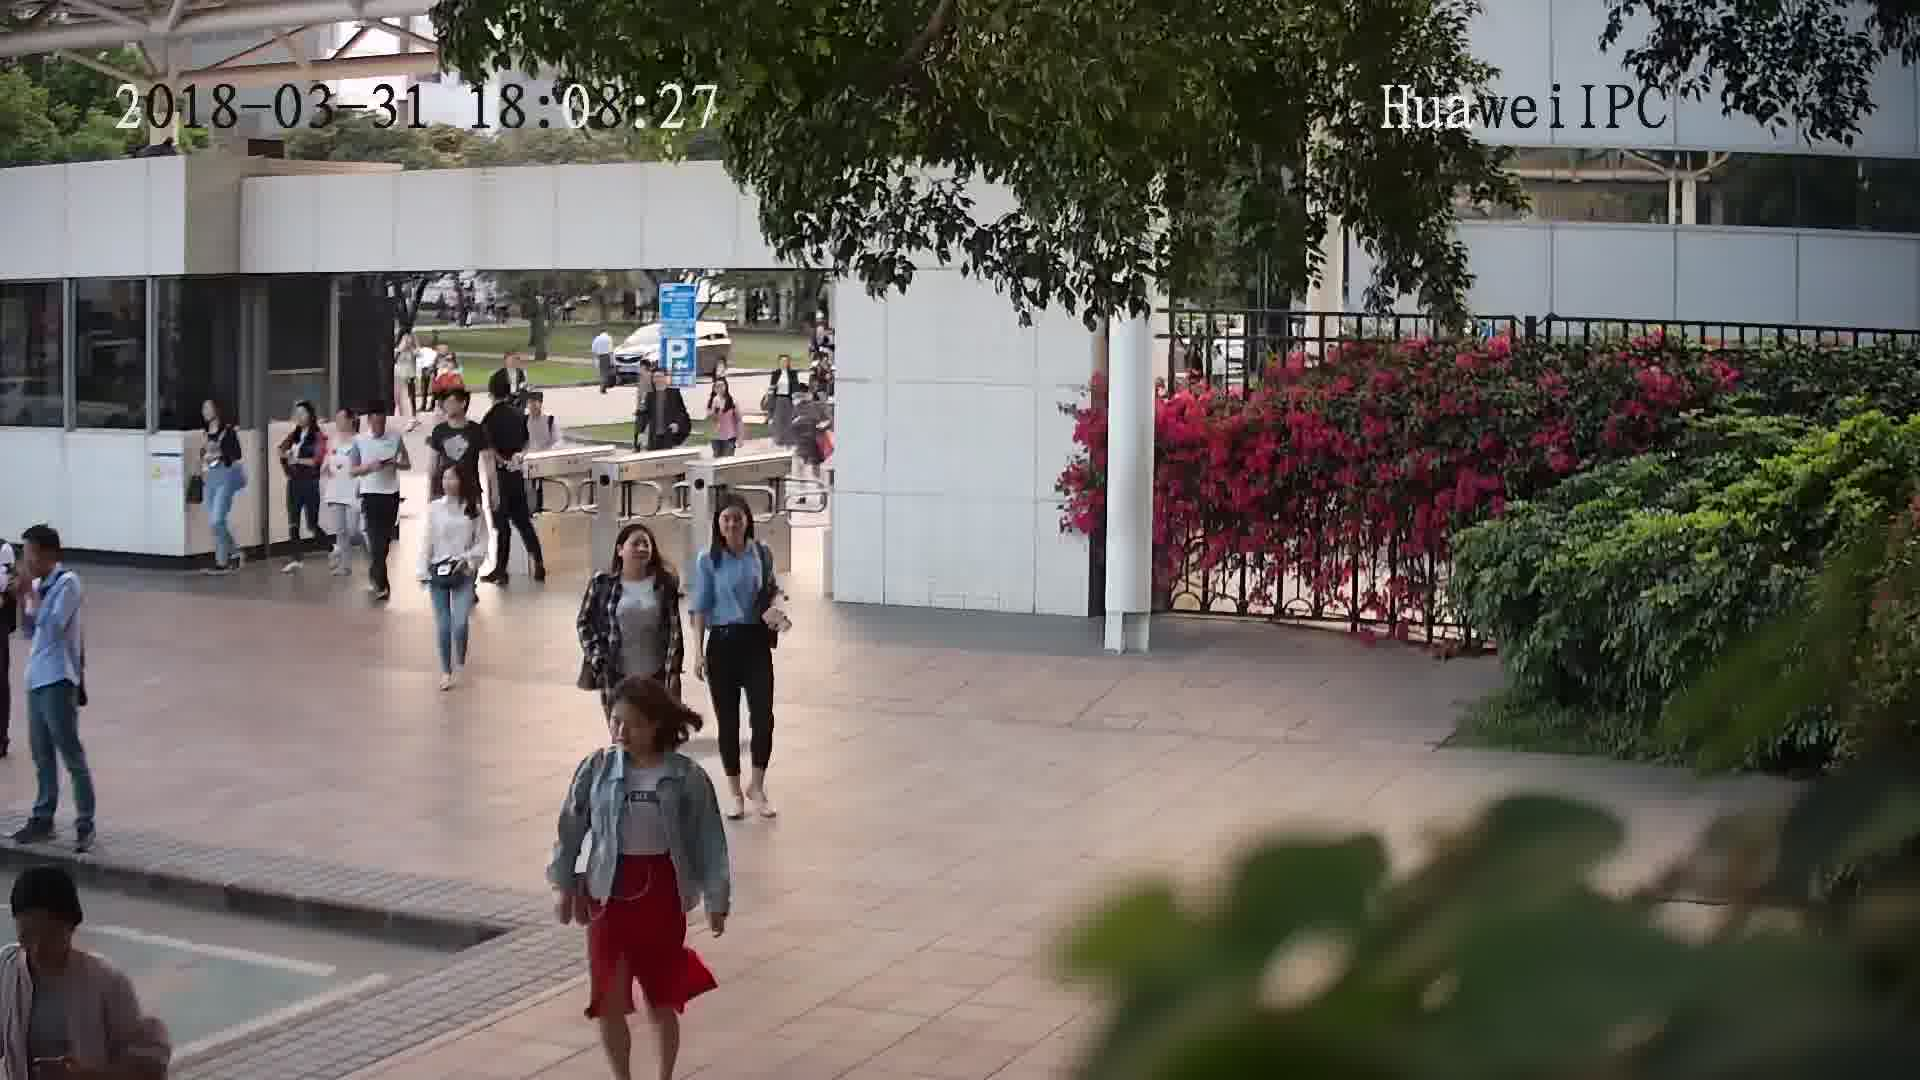face: (11, 904, 79, 972), (606, 703, 657, 754), (711, 500, 753, 546), (614, 528, 655, 575)
person: (1, 865, 138, 1012), (578, 677, 714, 791), (590, 522, 678, 595), (17, 522, 88, 611), (695, 493, 772, 573), (422, 462, 484, 521), (426, 393, 480, 447), (347, 398, 398, 454), (196, 390, 242, 447), (485, 376, 529, 428), (280, 396, 326, 444), (323, 400, 364, 454), (641, 359, 685, 403), (704, 377, 742, 417), (521, 389, 558, 428), (769, 355, 802, 385)
